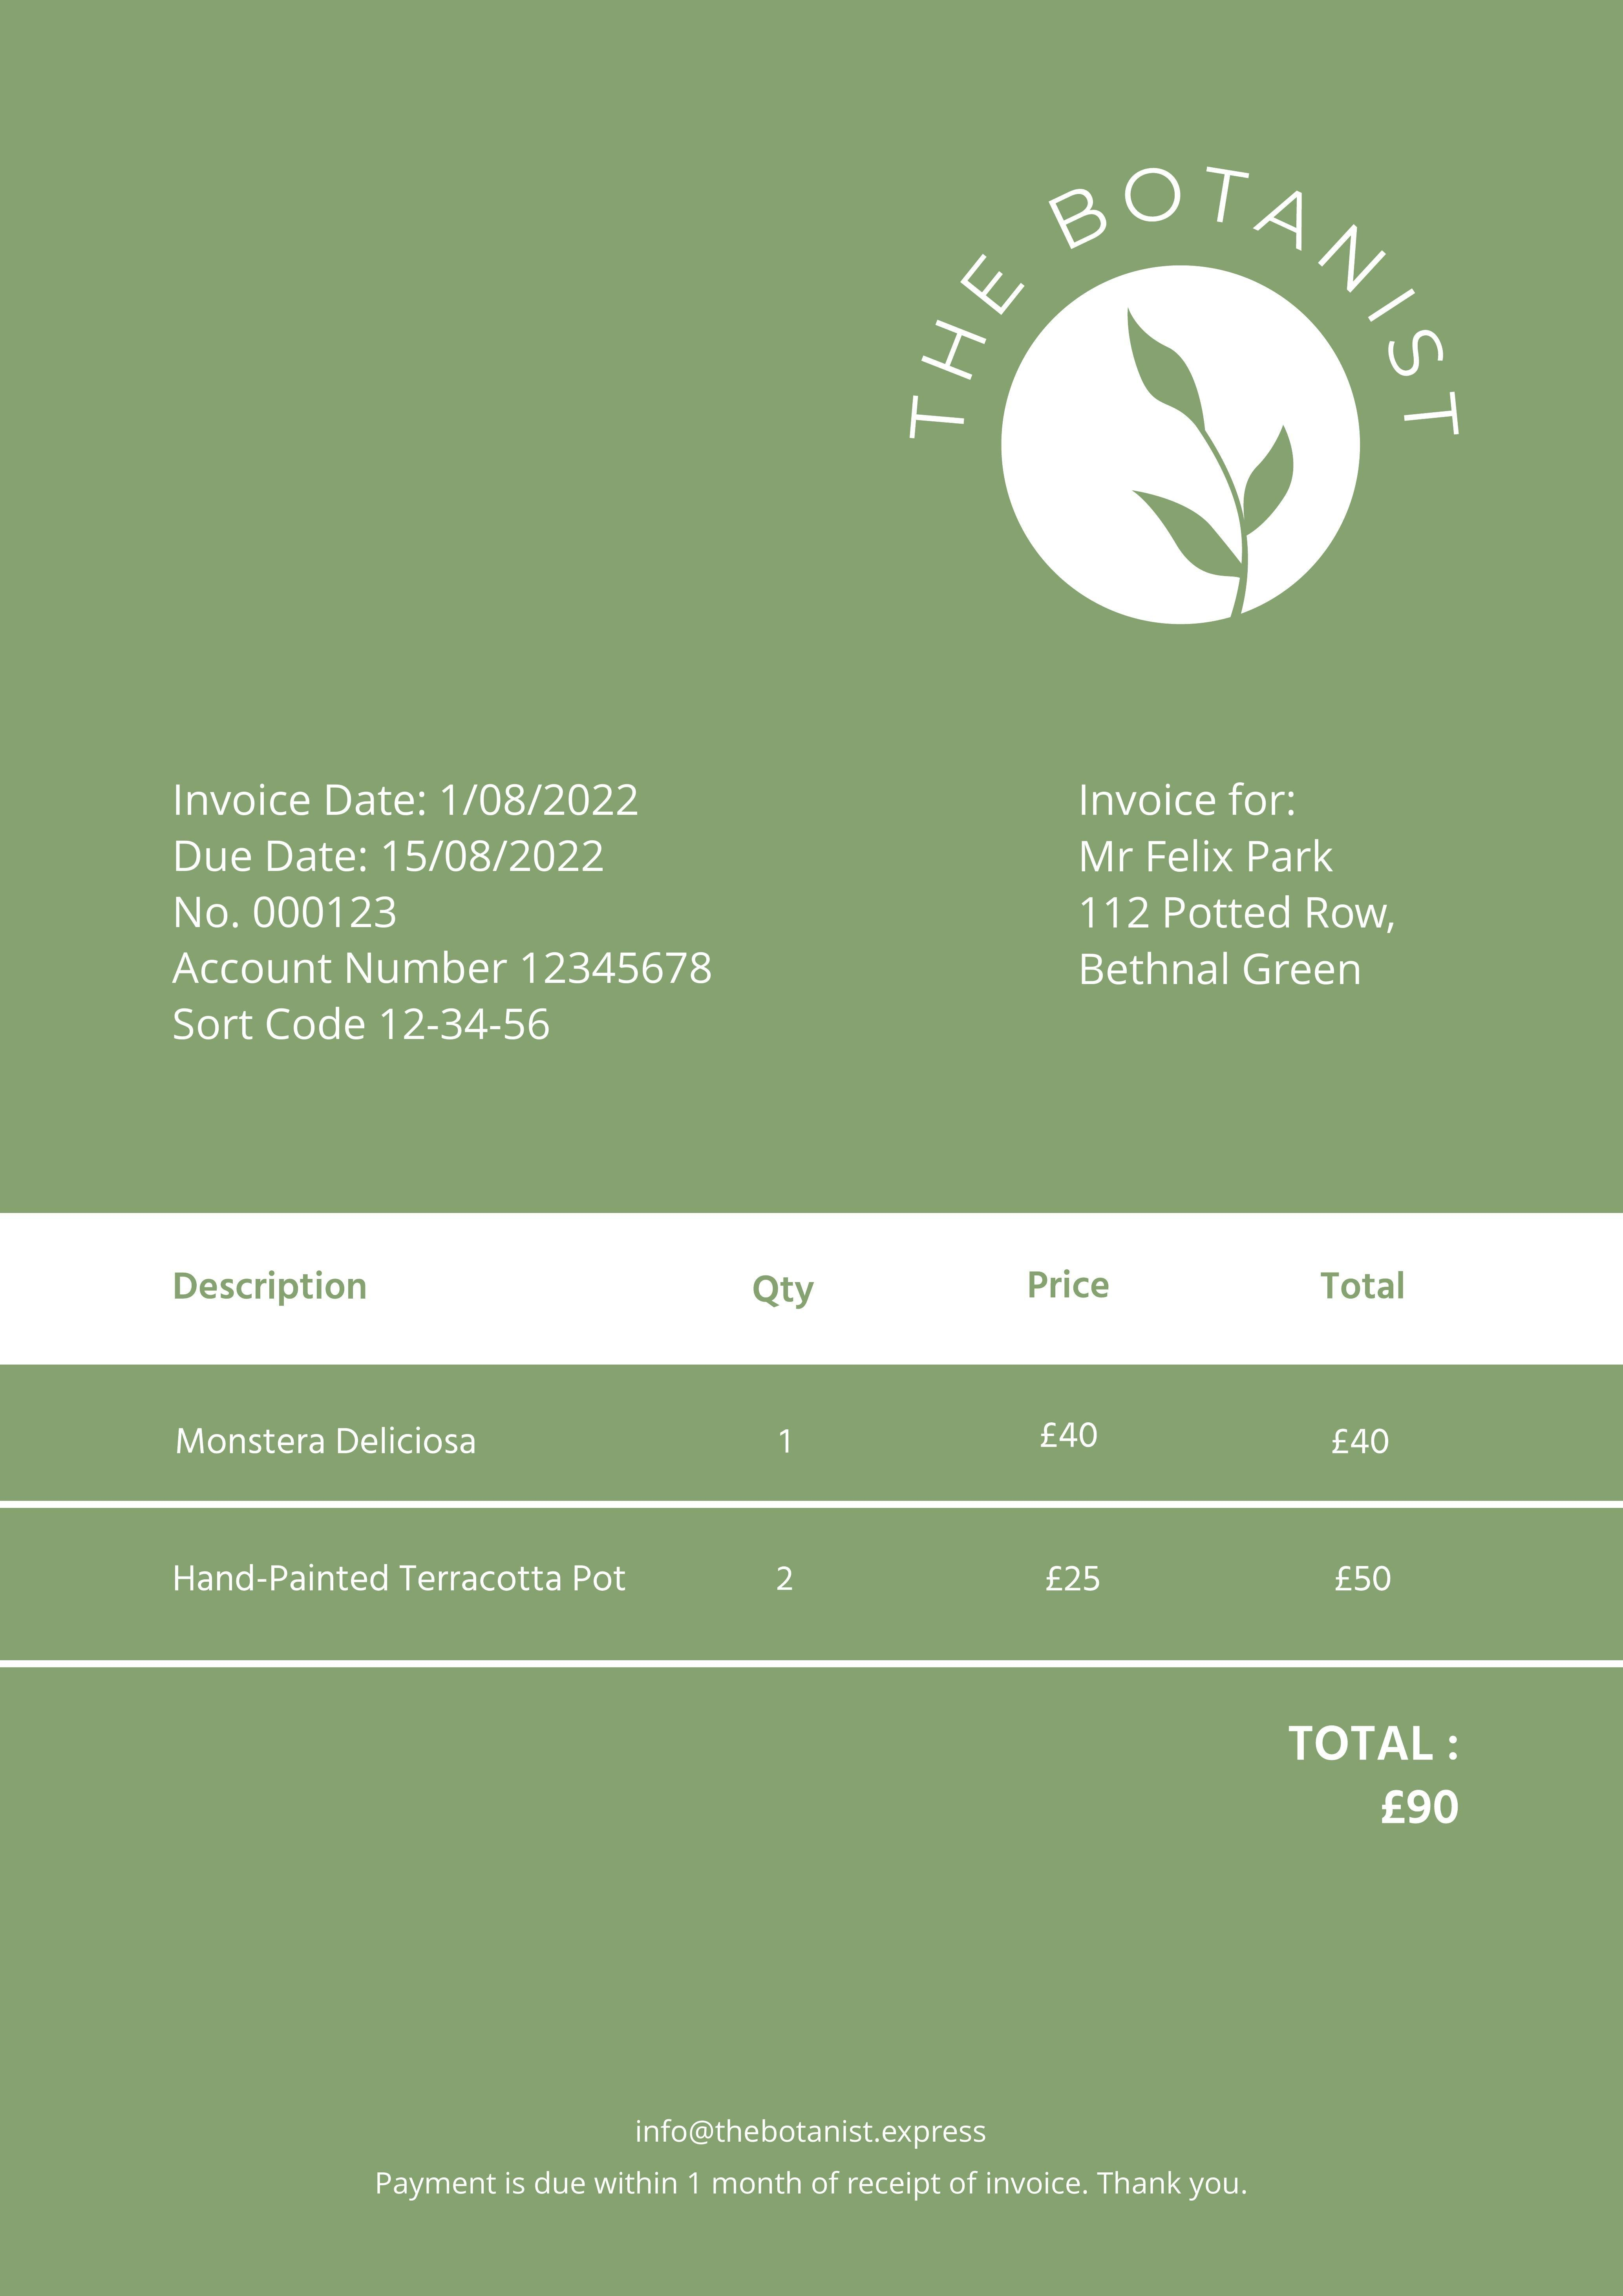ROI: (165, 1261, 1472, 1618), (875, 142, 1495, 474), (169, 775, 715, 936), (1068, 785, 1400, 994), (364, 2159, 1265, 2227), (169, 943, 718, 1045), (1268, 1709, 1482, 1834)
